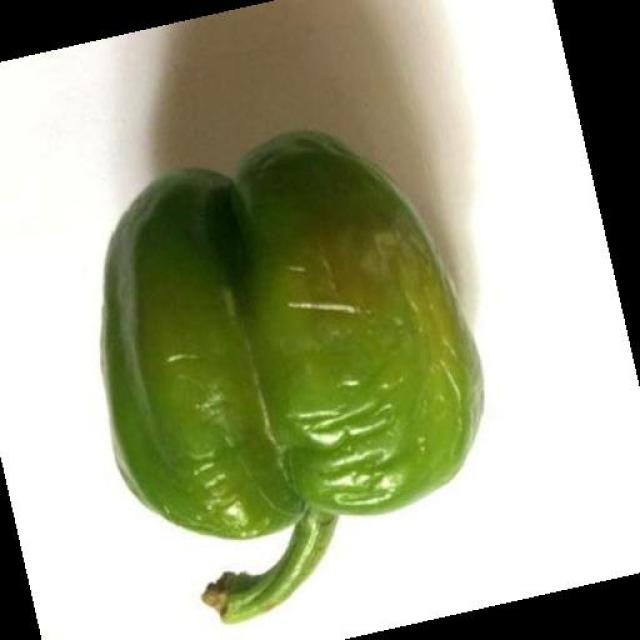Stale_Capsicum: (88, 184, 559, 496)
